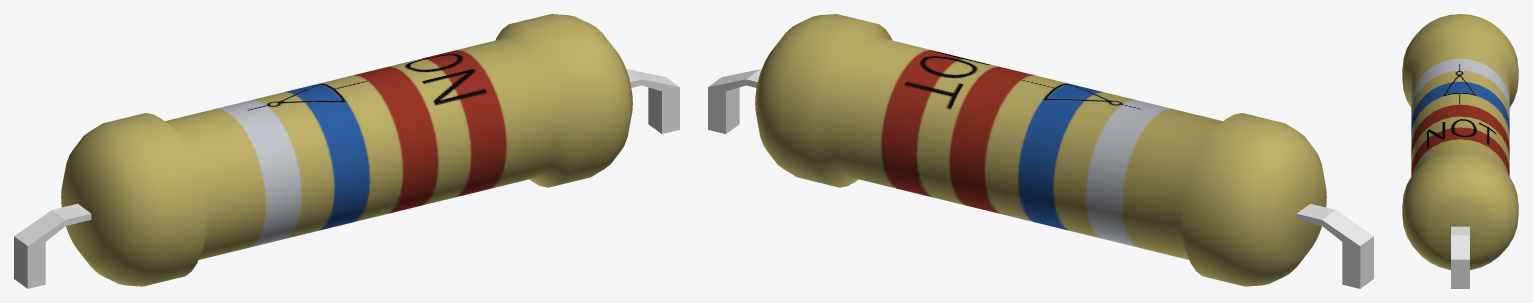
File: NOTgate.fbx
3 views of the same model, side by side, from view 1: azimuth 30°, elevation 25°; view 2: azimuth 150°, elevation 25°; view 3: azimuth 270°, elevation 25° (orthographic). The views are drawn at different scales.
Visible parts, largest first — view 1: Cylinder.002; view 2: Cylinder.002; view 3: Cylinder.002.
Part boxes in pixels (bbox=[...]): Cylinder.002: bbox=[14, 14, 679, 288]; Cylinder.002: bbox=[708, 14, 1373, 288]; Cylinder.002: bbox=[1402, 14, 1518, 288].
Size of the model in its own units: 409 by 91.8 by 91.8.
